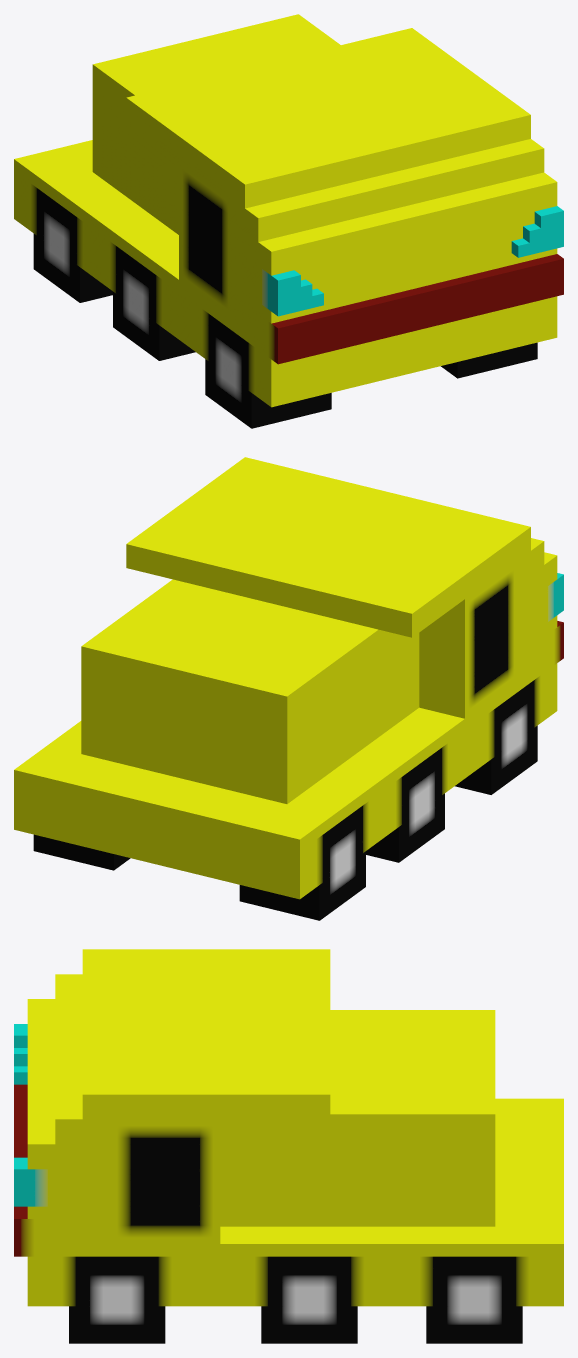
Rendered from Car_5.fbx.
The picture shows the model from 3 angles, top to bottom: view 1: azimuth 30°, elevation 25°; view 2: azimuth 150°, elevation 25°; view 3: azimuth 270°, elevation 25°; orthographic projection. The views are drawn at different scales.
Visible parts, largest first — view 1: Car_5; view 2: Car_5; view 3: Car_5.
Part boxes in pixels (bbox=[...]): Car_5: bbox=[14, 14, 563, 428]; Car_5: bbox=[14, 457, 563, 920]; Car_5: bbox=[14, 949, 563, 1343].
Size of the model in its own units: 25 by 20 by 40.
1 material, 1 textured.
